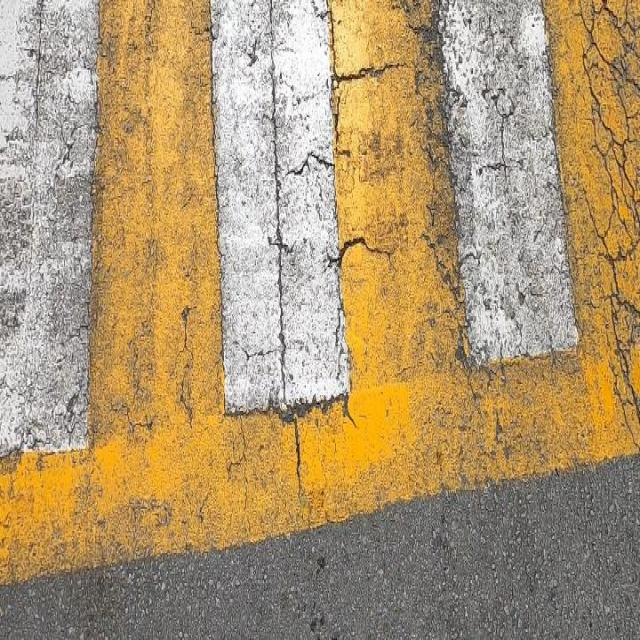cracks: (204, 0, 451, 561), (547, 1, 640, 521)
